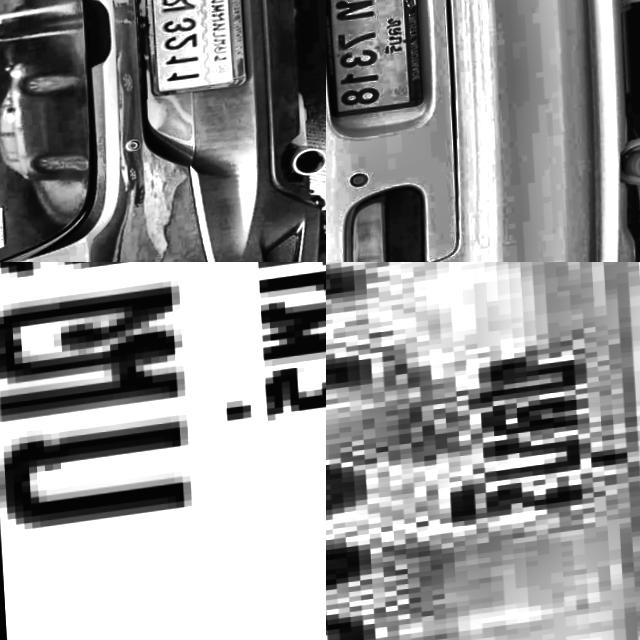license-plate: (0, 262, 326, 640), (326, 262, 640, 640), (326, 0, 427, 125), (142, 0, 247, 109)
